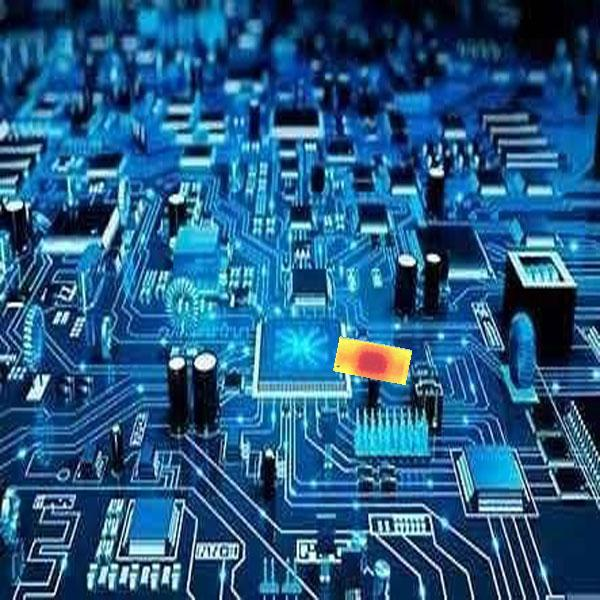componente_T: (331, 334, 413, 388)
